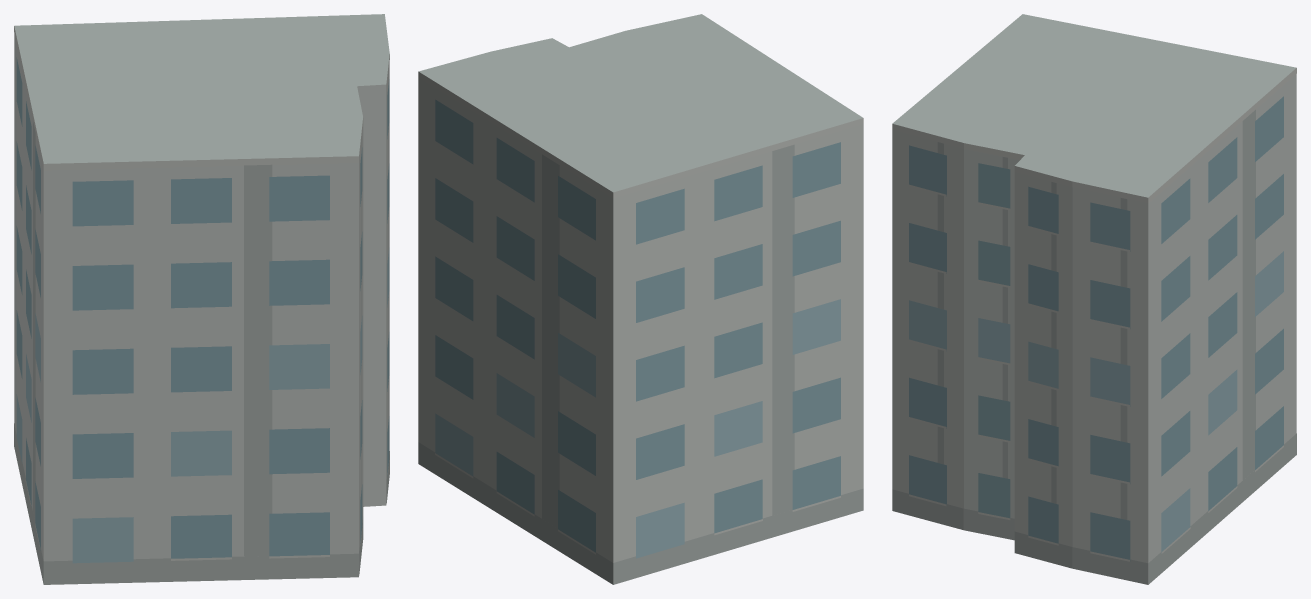
Rendered from survey-upis-33001825.glb.
3 renders of one model, left to right at view 1: azimuth 30°, elevation 25°; view 2: azimuth 150°, elevation 25°; view 3: azimuth 270°, elevation 25°, orthographic. The views are drawn at different scales.
Parts seen in each view (by area): view 1: survey-upis-33001825.tmp; view 2: survey-upis-33001825.tmp; view 3: survey-upis-33001825.tmp.
Boxes of the visible parts, bbox=[...] form: survey-upis-33001825.tmp: bbox=[14, 14, 389, 584]; survey-upis-33001825.tmp: bbox=[418, 14, 863, 584]; survey-upis-33001825.tmp: bbox=[892, 14, 1296, 584].
Size of the model in its own units: 16.09 by 15.8 by 14.97.
